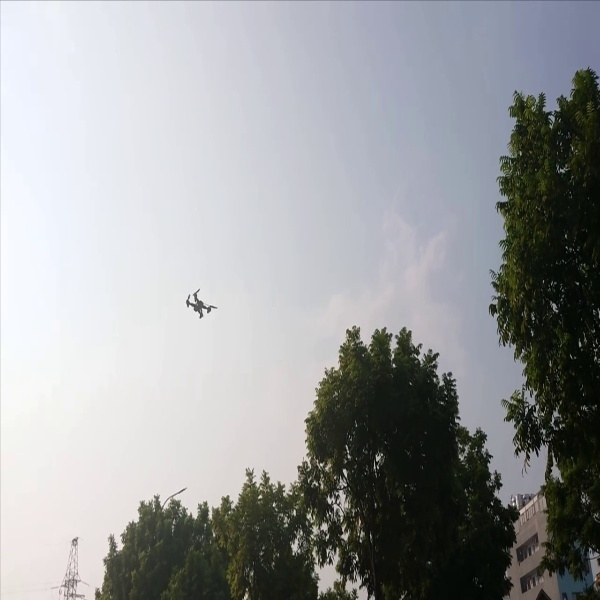drone: (177, 272, 225, 323)
